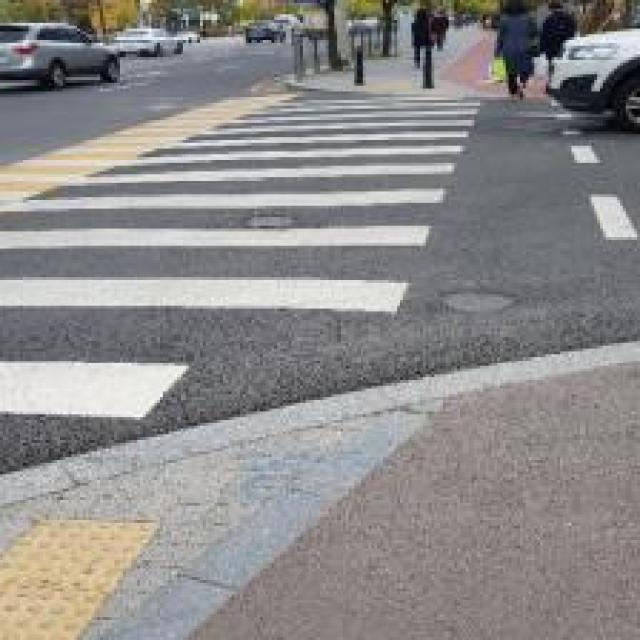zebra: (2, 83, 507, 434)
